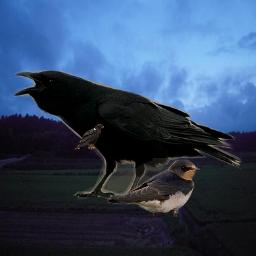Crow: (14, 70, 242, 203), (74, 124, 104, 150)
Swallow: (107, 158, 200, 217)
